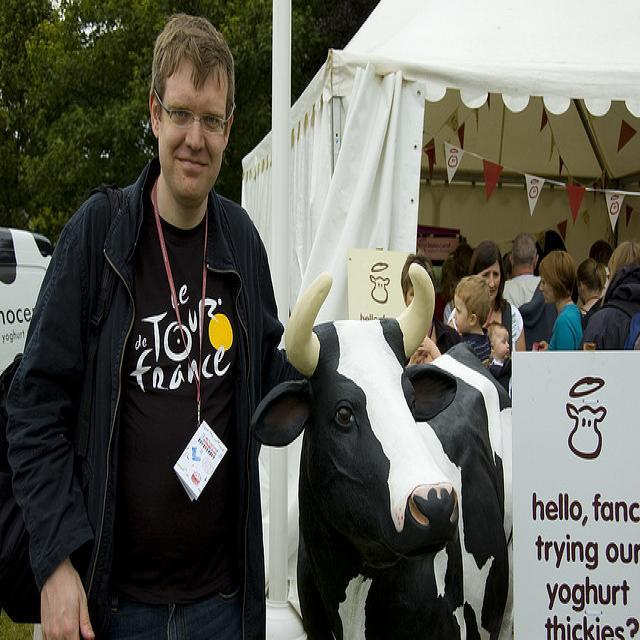cow: (250, 261, 513, 637)
